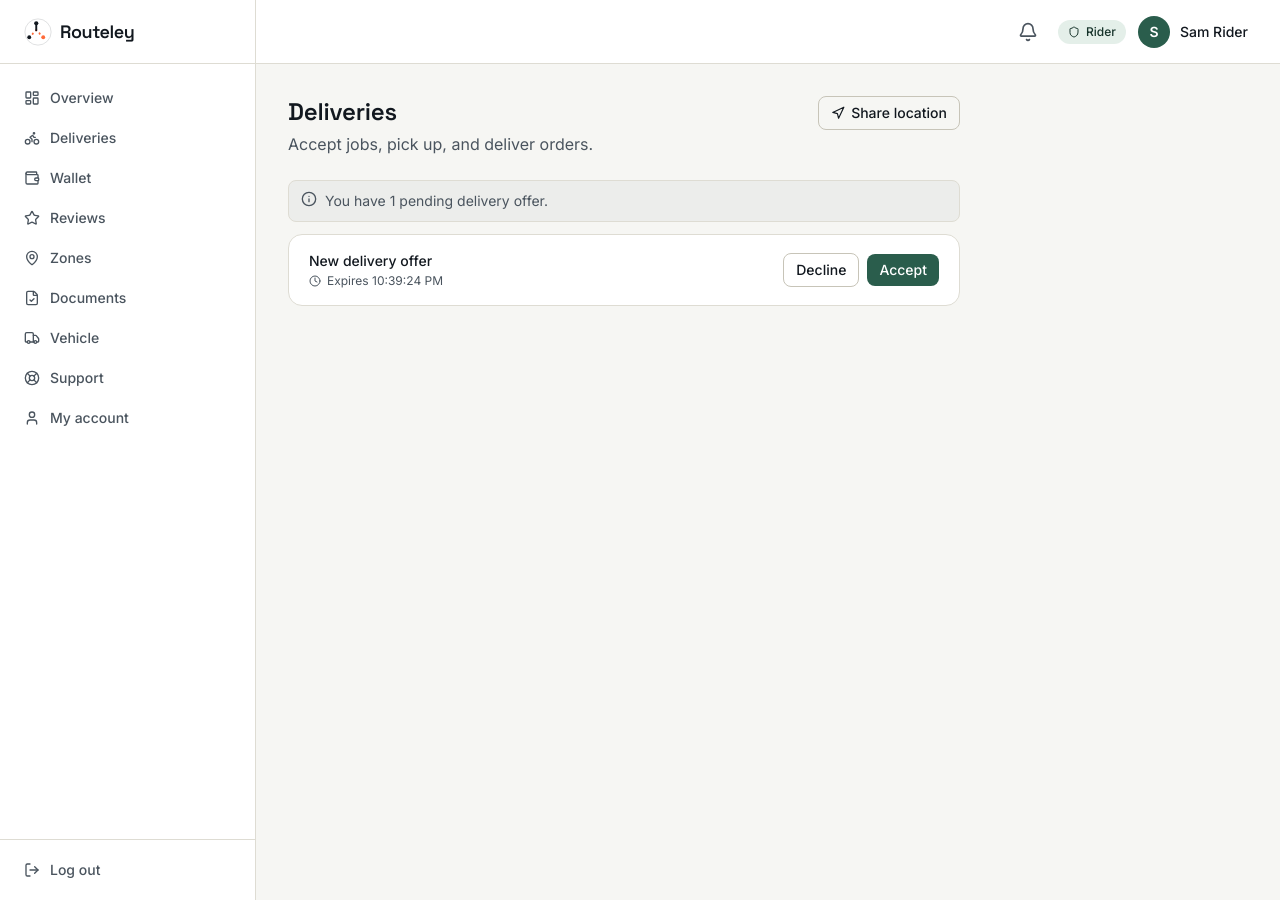
DeliveriesPage - critical rider delivery flow › shows an error toast when an offer can no longer be accepted
Click the button "Accept" at (903, 270), box [867, 254, 939, 286]
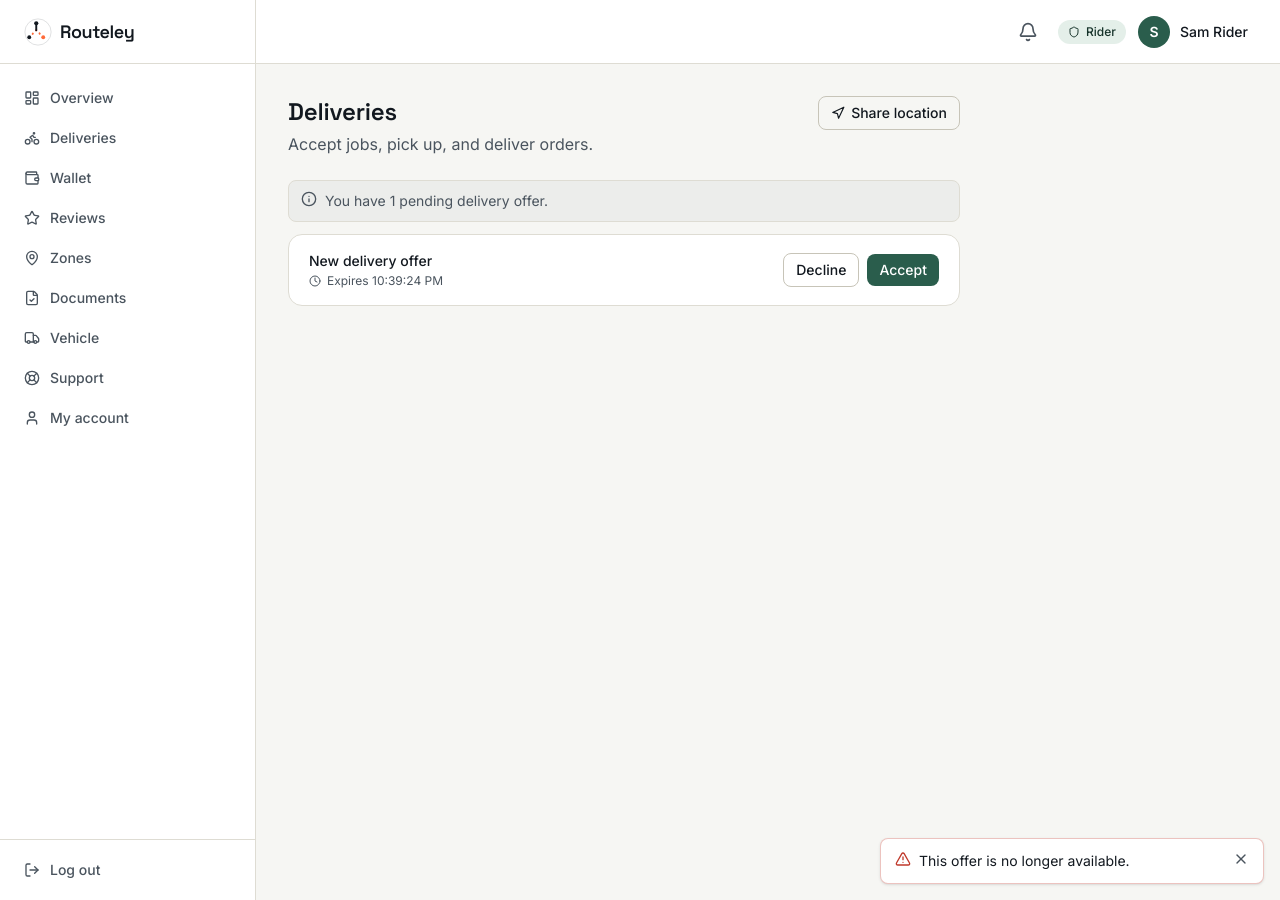
Now the text "This offer is no longer available." is shown, box [919, 852, 1130, 869]
